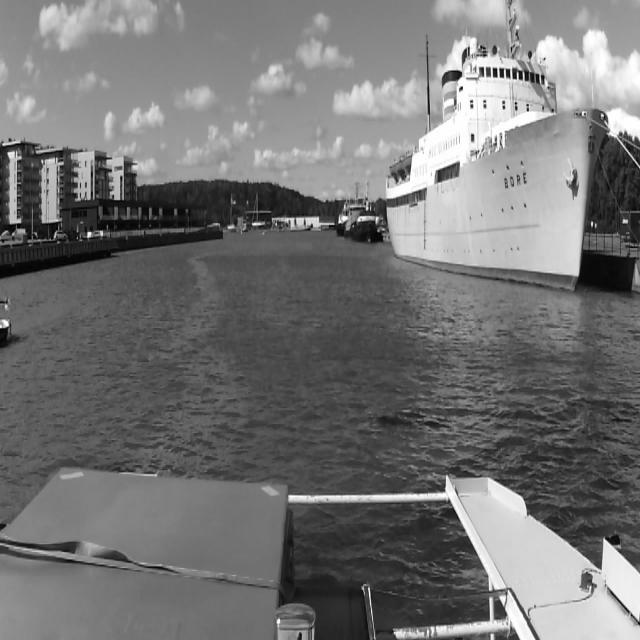ship: (386, 0, 609, 293), (352, 178, 377, 242), (251, 192, 265, 226)
